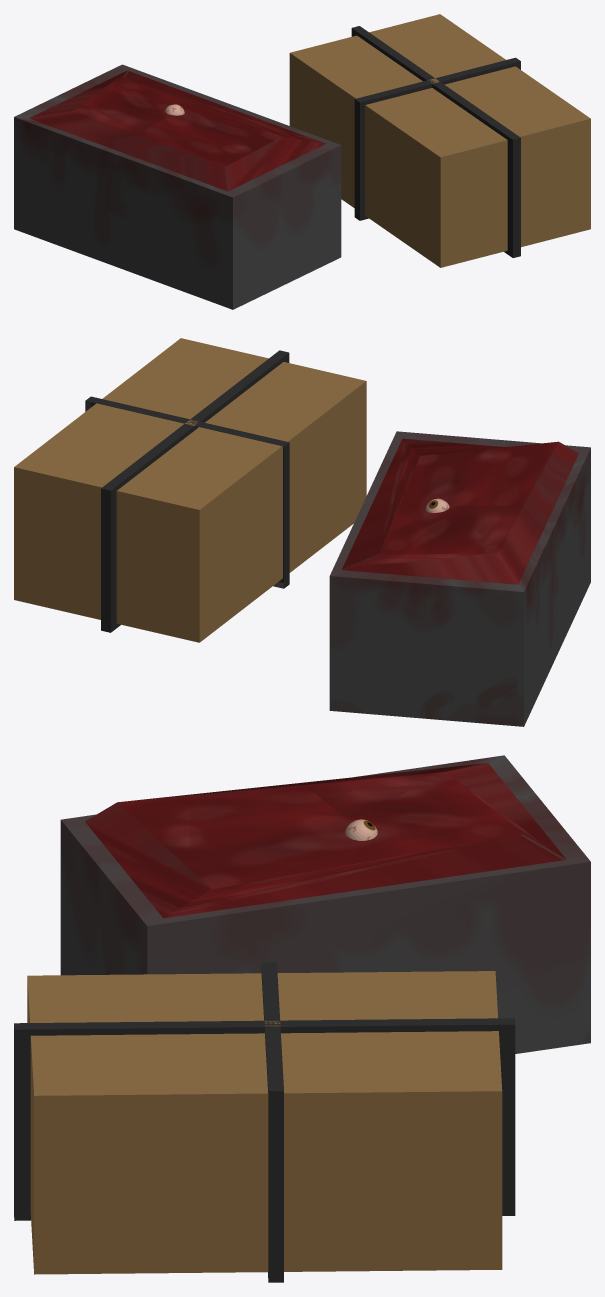
3 views of the same model, one above another, from view 1: azimuth 30°, elevation 25°; view 2: azimuth 150°, elevation 25°; view 3: azimuth 270°, elevation 25° (orthographic). The views are drawn at different scales.
Parts seen in each view (by area): view 1: Meat Tray.002, Cube.002; view 2: Cube.002, Meat Tray.002; view 3: Cube.002, Meat Tray.002.
Boxes of the visible parts, x1,y1,x2,y2 form: Meat Tray.002: (14,64,341,309); Cube.002: (289,14,590,267); Cube.002: (14,338,366,642); Meat Tray.002: (329,431,590,726); Cube.002: (14,962,515,1282); Meat Tray.002: (60,755,590,1053).
Bounding box in the file's own units: 346 × 99.57 × 246.
